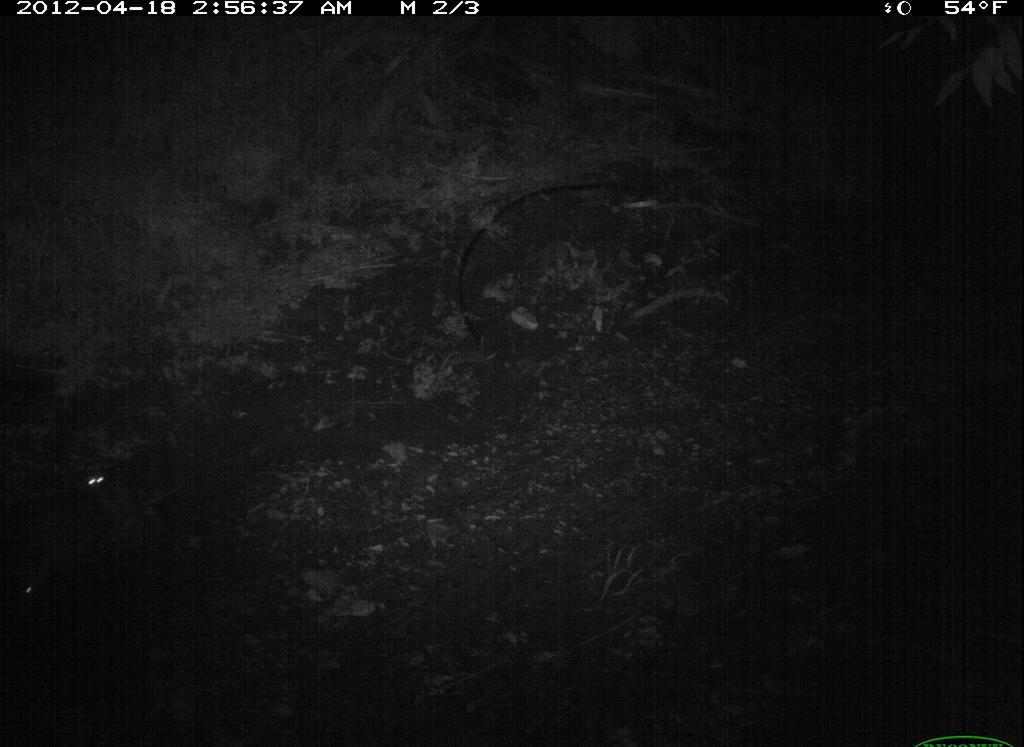opossum: (71, 456, 180, 525)
